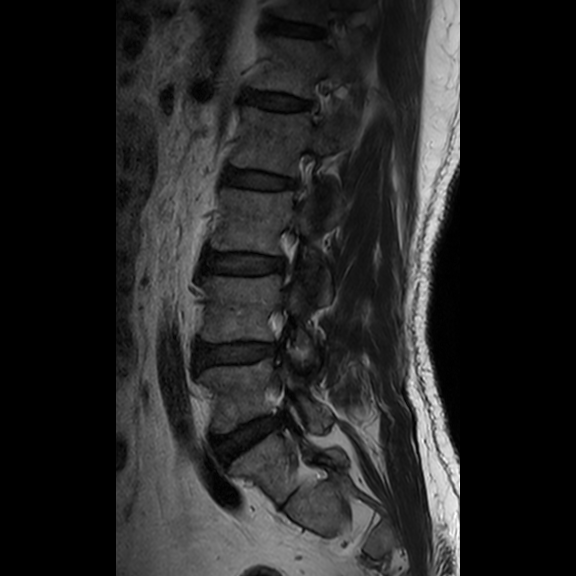LFS0: (264, 221, 306, 289), (281, 145, 319, 211)
